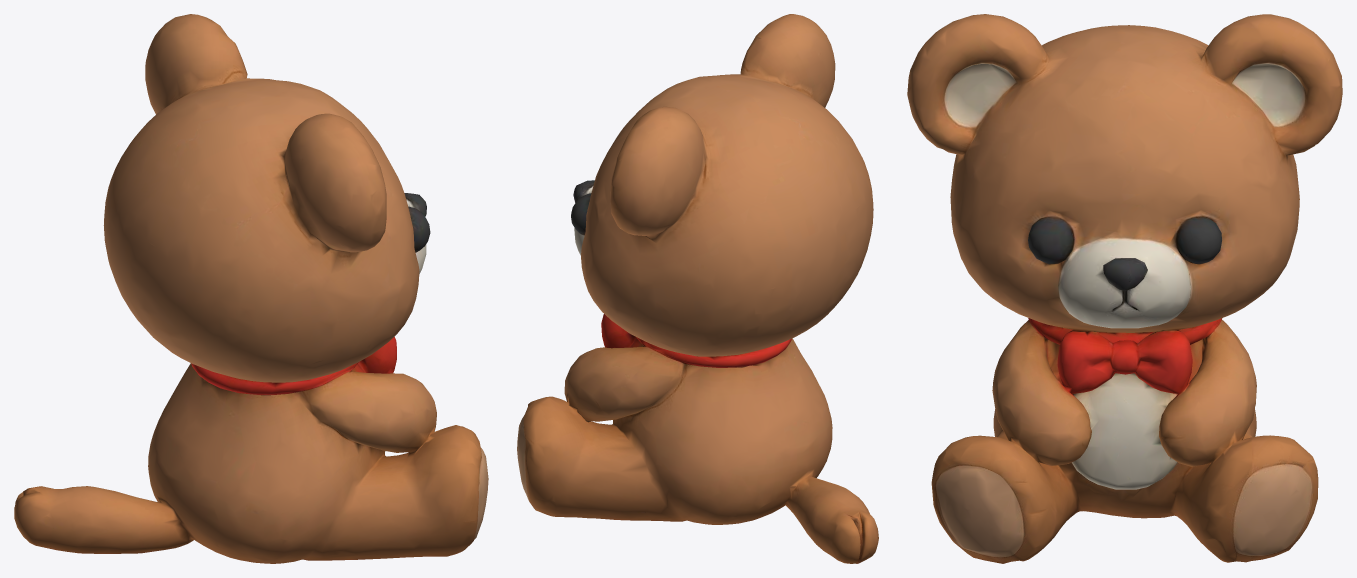
Rendered from teddy.glb.
3 views of the same model, side by side, from view 1: azimuth 30°, elevation 25°; view 2: azimuth 150°, elevation 25°; view 3: azimuth 270°, elevation 25° (orthographic). The views are drawn at different scales.
Visible parts, largest first — view 1: tripo_node_4bbec462-6d71-4ebb-8ac6-c5ddbdb42f3f; view 2: tripo_node_4bbec462-6d71-4ebb-8ac6-c5ddbdb42f3f; view 3: tripo_node_4bbec462-6d71-4ebb-8ac6-c5ddbdb42f3f.
Boxes of the visible parts, left/top/right/bottom form: tripo_node_4bbec462-6d71-4ebb-8ac6-c5ddbdb42f3f: left=14, top=14, right=488, bottom=563; tripo_node_4bbec462-6d71-4ebb-8ac6-c5ddbdb42f3f: left=517, top=14, right=878, bottom=563; tripo_node_4bbec462-6d71-4ebb-8ac6-c5ddbdb42f3f: left=907, top=14, right=1342, bottom=563.
Size of the model in its own units: 0.8288 by 1 by 0.8237.
Materials: 1 (1 with a texture image).
